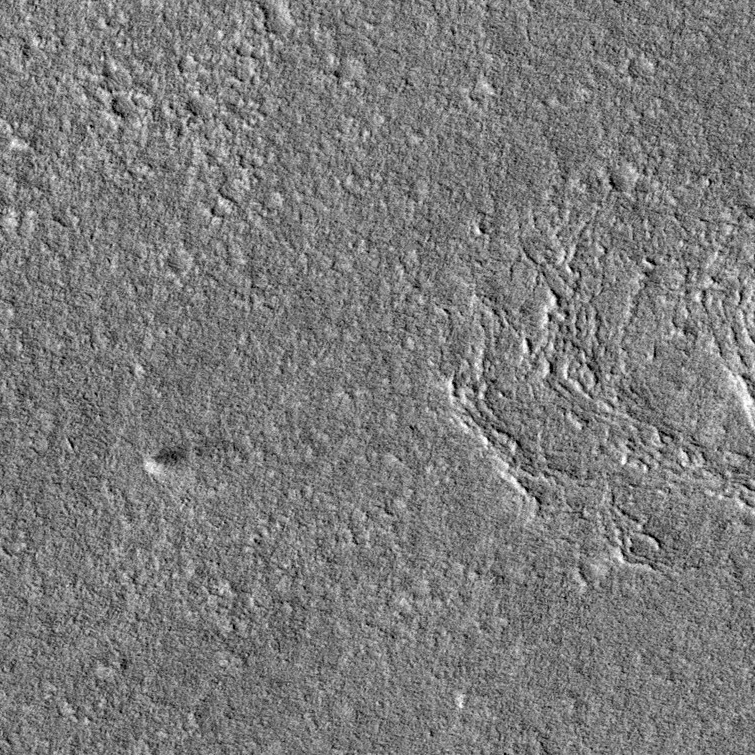dust_devil: (138, 435, 247, 481)
